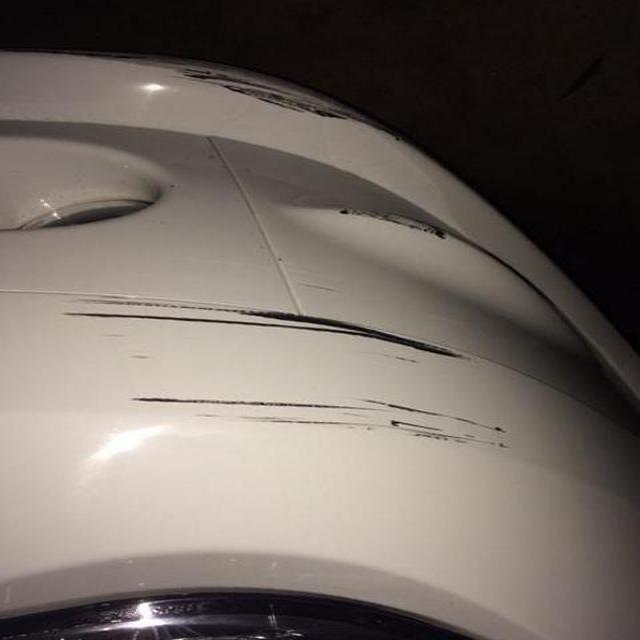scratch: (42, 284, 526, 460), (158, 55, 366, 131), (332, 194, 456, 244)
